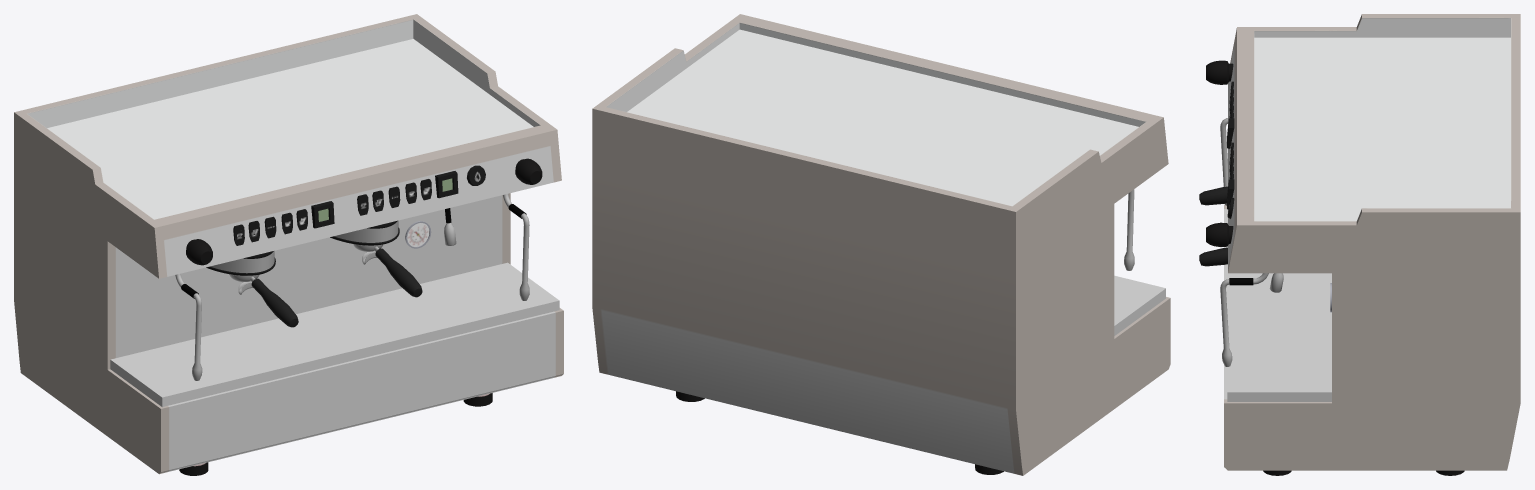
Rendered from commerce_coffeeMachine_001.fbx.
3 views of the same model, side by side, from view 1: azimuth 30°, elevation 25°; view 2: azimuth 150°, elevation 25°; view 3: azimuth 270°, elevation 25° (orthographic). The views are drawn at different scales.
Visible parts, largest first — view 1: commerce_coffeeMachine_001; view 2: commerce_coffeeMachine_001; view 3: commerce_coffeeMachine_001.
Boxes of the visible parts, x1,y1,x2,y2 form: commerce_coffeeMachine_001: (14, 14, 563, 475); commerce_coffeeMachine_001: (592, 14, 1170, 475); commerce_coffeeMachine_001: (1199, 14, 1520, 475).
Size of the model in its own units: 0.82 by 0.552 by 0.5613.
Materials: 2 (2 with a texture image).
